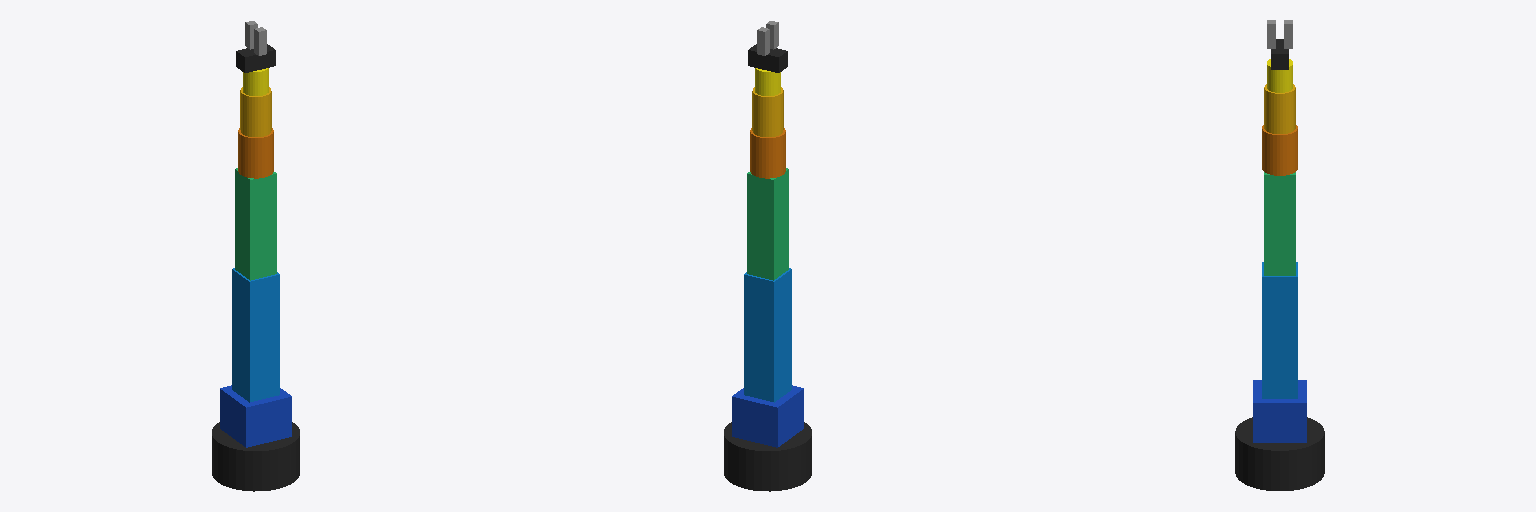
The robot description file, URDF, robot "devotics_arm":
<?xml version="1.0"?>

<robot name="devotics_arm">

    <!-- ===================================== -->
    <!-- BASE LINK -->
    <!-- ===================================== -->

    <link name="base_link">

        <visual>
            <origin xyz="0 0 0.05" rpy="0 0 0"/>

            <geometry>
                <cylinder radius="0.10" length="0.10"/>
            </geometry>

            <material name="base_color">
                <color rgba="0.20 0.20 0.20 1"/>
            </material>
        </visual>

    </link>


    <!-- ===================================== -->
    <!-- SHOULDER LINK -->
    <!-- ===================================== -->

    <link name="shoulder_link">

        <visual>
            <origin xyz="0 0 0.05" rpy="0 0 0"/>

            <geometry>
                <box size="0.12 0.12 0.10"/>
            </geometry>

            <material name="shoulder_color">
                <color rgba="0.15 0.35 0.80 1"/>
            </material>
        </visual>

    </link>


    <!-- ===================================== -->
    <!-- JOINT 1 - BASE ROTATION -->
    <!-- ===================================== -->

    <joint name="joint1" type="revolute">

        <parent link="base_link"/>
        <child link="shoulder_link"/>

        <origin xyz="0 0 0.10" rpy="0 0 0"/>

        <axis xyz="0 0 1"/>

        <limit
            lower="-3.14"
            upper="3.14"
            effort="20"
            velocity="1.0"
        />

    </joint>


    <!-- ===================================== -->
    <!-- UPPER ARM LINK -->
    <!-- ===================================== -->

    <link name="upper_arm_link">

        <visual>
            <origin xyz="0 0 0.15" rpy="0 0 0"/>

            <geometry>
                <box size="0.08 0.08 0.30"/>
            </geometry>

            <material name="upper_arm_color">
                <color rgba="0.10 0.55 0.85 1"/>
            </material>
        </visual>

    </link>


    <!-- ===================================== -->
    <!-- JOINT 2 - SHOULDER -->
    <!-- ===================================== -->

    <joint name="joint2" type="revolute">

        <parent link="shoulder_link"/>
        <child link="upper_arm_link"/>

        <origin xyz="0 0 0.10" rpy="0 0 0"/>

        <axis xyz="0 1 0"/>

        <limit
            lower="-1.57"
            upper="1.57"
            effort="20"
            velocity="1.0"
        />

    </joint>


    <!-- ===================================== -->
    <!-- FOREARM LINK -->
    <!-- ===================================== -->

    <link name="forearm_link">

        <visual>
            <origin xyz="0 0 0.125" rpy="0 0 0"/>

            <geometry>
                <box size="0.07 0.07 0.25"/>
            </geometry>

            <material name="forearm_color">
                <color rgba="0.20 0.75 0.45 1"/>
            </material>
        </visual>

    </link>


    <!-- ===================================== -->
    <!-- JOINT 3 - ELBOW -->
    <!-- ===================================== -->

    <joint name="joint3" type="revolute">

        <parent link="upper_arm_link"/>
        <child link="forearm_link"/>

        <origin xyz="0 0 0.3" rpy="0 0 0"/>

        <axis xyz="0 1 0"/>

        <limit
            lower="-2.0"
            upper="2.0"
            effort="15"
            velocity="1.0"
        />

    </joint>


    <!-- ===================================== -->
    <!-- WRIST LINK 1 -->
    <!-- ===================================== -->

    <link name="wrist1_link">
        <visual>
            <origin xyz="0 0 0.05" rpy="0 0 0"/>
            <geometry>
                <cylinder radius="0.04" length="0.10"/>
            </geometry>
            <material name="wrist1_color">
                <color rgba="0.85 0.50 0.10 1"/>
            </material>
        </visual>
    </link>

    <!-- JOINT 4 - WRIST PITCH -->
    <joint name="joint4" type="revolute">
        <parent link="forearm_link"/>
        <child link="wrist1_link"/>
        <origin xyz="0 0 0.25" rpy="0 0 0"/>
        <axis xyz="0 1 0"/>
        <limit lower="-1.57" upper="1.57" effort="10" velocity="1.0"/>
    </joint>

    <!-- ===================================== -->
    <!-- WRIST LINK 2 -->
    <!-- ===================================== -->

    <link name="wrist2_link">
        <visual>
            <origin xyz="0 0 0.05" rpy="0 0 0"/>
            <geometry>
                <cylinder radius="0.035" length="0.10"/>
            </geometry>
            <material name="wrist2_color">
                <color rgba="0.90 0.70 0.10 1"/>
            </material>
        </visual>
    </link>

    <!-- JOINT 5 - WRIST ROLL -->
    <joint name="joint5" type="revolute">
        <parent link="wrist1_link"/>
        <child link="wrist2_link"/>
        <origin xyz="0 0 0.10" rpy="0 0 0"/>
        <axis xyz="0 0 1"/>
        <limit lower="-3.14" upper="3.14" effort="10" velocity="1.5"/>
    </joint>


    <!-- ===================================== -->
    <!-- WRIST LINK 3 (TOOL FLANGE) -->
    <!-- ===================================== -->

    <link name="wrist3_link">
        <visual>
            <origin xyz="0 0 0.03" rpy="0 0 0"/>
            <geometry>
                <cylinder radius="0.03" length="0.06"/>
            </geometry>
            <material name="wrist3_color">
                <color rgba="0.95 0.90 0.10 1"/>
            </material>
        </visual>
    </link>

    <!-- JOINT 6 - WRIST YAW / TOOL ROTATION -->
    <joint name="joint6" type="revolute">
        <parent link="wrist2_link"/>
        <child link="wrist3_link"/>
        <origin xyz="0 0 0.10" rpy="0 0 0"/>
        <axis xyz="0 1 0"/>
        <limit lower="-3.14" upper="3.14" effort="5" velocity="2.0"/>
    </joint>


    <!-- ===================================== -->
    <!-- GRIPPER BASE LINK -->
    <!-- ===================================== -->

    <link name="gripper_base_link">
        <visual>
            <origin xyz="0 0 0.02" rpy="0 0 0"/>
            <geometry>
                <box size="0.08 0.04 0.04"/>
            </geometry>
            <material name="gripper_base_color">
                <color rgba="0.20 0.20 0.20 1"/>
            </material>
        </visual>
    </link>

    <!-- FIXED JOINT TO WRIST 3 -->
    <joint name="gripper_base_joint" type="fixed">
        <parent link="wrist3_link"/>
        <child link="gripper_base_link"/>
        <origin xyz="0 0 0.06" rpy="0 0 0"/>
    </joint>


    <!-- ===================================== -->
    <!-- LEFT FINGER (PRISMATIC) -->
    <!-- ===================================== -->

    <link name="left_finger_link">
        <visual>
            <origin xyz="0 0 0.03" rpy="0 0 0"/>
            <geometry>
                <box size="0.02 0.02 0.06"/>
            </geometry>
            <material name="finger_color">
                <color rgba="0.60 0.60 0.60 1"/>
            </material>
        </visual>
    </link>

    <joint name="left_finger_joint" type="prismatic">
        <parent link="gripper_base_link"/>
        <child link="left_finger_link"/>
        <origin xyz="0 0.02 0.04" rpy="0 0 0"/>
        <axis xyz="0 1 0"/>
        <limit lower="0.0" upper="0.03" effort="10" velocity="0.1"/>
    </joint>


    <!-- ===================================== -->
    <!-- RIGHT FINGER (PRISMATIC) -->
    <!-- ===================================== -->

    <link name="right_finger_link">
        <visual>
            <origin xyz="0 0 0.03" rpy="0 0 0"/>
            <geometry>
                <box size="0.02 0.02 0.06"/>
            </geometry>
            <material name="finger_color">
                <color rgba="0.60 0.60 0.60 1"/>
            </material>
        </visual>
    </link>

    <joint name="right_finger_joint" type="prismatic">
        <parent link="gripper_base_link"/>
        <child link="right_finger_link"/>
        <origin xyz="0 -0.02 0.04" rpy="0 0 0"/>
        <axis xyz="0 -1 0"/>
        <limit lower="0.0" upper="0.03" effort="10" velocity="0.1"/>
    </joint>

</robot>

--- Render facts (derived) ---
The picture shows the robot from 3 angles, left to right: view 1: azimuth 30°, elevation 25°; view 2: azimuth 150°, elevation 25°; view 3: azimuth 270°, elevation 25°; orthographic projection.
Model devotics_arm with 10 links and 9 joints (6 revolute, 2 prismatic, 1 fixed), rooted at base_link, posed all joints at 0.
Visible links, largest first — view 1: upper_arm_link, base_link, forearm_link, shoulder_link, wrist1_link, wrist2_link, gripper_base_link, wrist3_link; view 2: upper_arm_link, base_link, forearm_link, shoulder_link, wrist1_link, wrist2_link, gripper_base_link, wrist3_link; view 3: base_link, upper_arm_link, forearm_link, shoulder_link, wrist1_link, wrist2_link, wrist3_link.
Boxes of the visible links, x1,y1,x2,y2 form: upper_arm_link: [232, 268, 279, 402]; base_link: [212, 422, 299, 491]; forearm_link: [235, 168, 276, 280]; shoulder_link: [220, 385, 291, 447]; wrist1_link: [238, 128, 273, 178]; wrist2_link: [240, 87, 271, 136]; gripper_base_link: [236, 44, 275, 72]; wrist3_link: [243, 68, 268, 95]; upper_arm_link: [744, 268, 791, 402]; base_link: [724, 422, 811, 491]; forearm_link: [747, 168, 788, 280]; shoulder_link: [732, 385, 803, 447]; wrist1_link: [750, 128, 785, 178]; wrist2_link: [752, 87, 783, 136]; gripper_base_link: [748, 44, 787, 72]; wrist3_link: [755, 68, 780, 95]; base_link: [1235, 417, 1324, 490]; upper_arm_link: [1262, 262, 1297, 398]; forearm_link: [1264, 172, 1295, 275]; shoulder_link: [1253, 380, 1306, 442]; wrist1_link: [1262, 125, 1297, 175]; wrist2_link: [1264, 84, 1295, 133]; wrist3_link: [1267, 59, 1292, 92].
Bounding box of the posed robot: 0.2 × 0.2 × 1.11 m (x, y, z).
Geometry: primitives only (box / cylinder / sphere), no mesh files.
